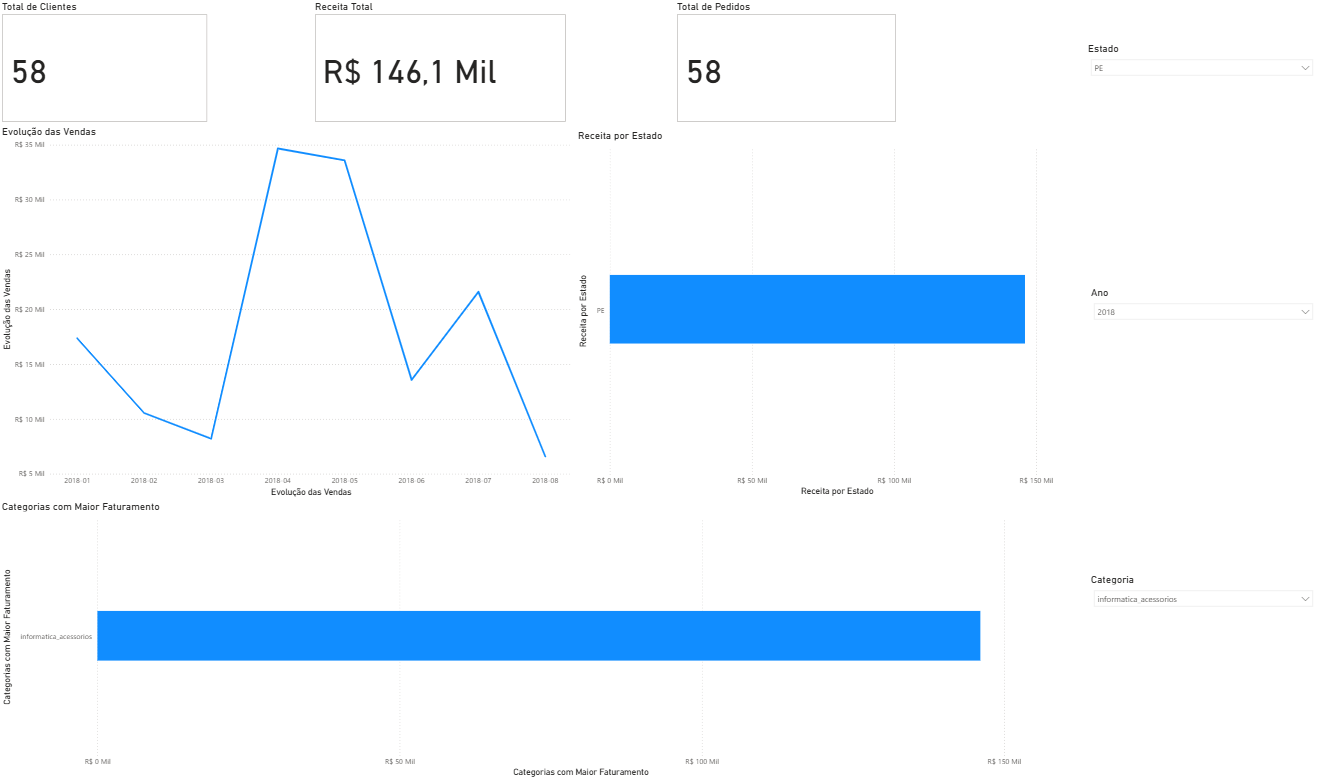

Layout of this report page (visuals, bound fields, positions):
{"tool":"powerbi","page":{"name":"Página 1","canvas":[2200,1300],"ordinal":0},"visuals":[{"type":"cardVisual","title":"Receita Total","fields":{"Data":["Sum(dados_tratados.price)"]},"box":[521.4,0,428.6,208.6],"z":0},{"type":"cardVisual","title":"Total de Pedidos","fields":{"Data":["Count(dados_tratados.order_id)"]},"box":[1124.3,0,375.7,208.6],"z":1000},{"type":"cardVisual","title":"Total de Clientes","fields":{"Data":["Count(dados_tratados.customer_id)"]},"box":[0,0,352.9,208.8],"z":2000},{"type":"lineChart","title":"Evolução das Vendas","fields":{"Y":["Sum(dados_tratados.price)"],"Category":["dados_tratados.AnoMes"]},"box":[0,208.6,960,624.3],"z":3000},{"type":"clusteredBarChart","title":"Receita por Estado","fields":{"Y":["Sum(dados_tratados.price)"],"Category":["dados_tratados.customer_state"]},"box":[960,215.7,850,617.1],"z":4000},{"type":"clusteredBarChart","title":"Categorias com Maior Faturamento","fields":{"Category":["dados_tratados.product_category_name"],"Y":["Sum(dados_tratados.price)"]},"box":[0,832.9,1810,467.1],"z":5000},{"type":"slicer","title":"Estado","fields":{"Values":["dados_tratados.customer_state"]},"box":[1810,70,390,335],"z":6000},{"type":"slicer","title":"Categoria","fields":{"Values":["dados_tratados.product_category_name"]},"box":[1814.3,954.3,385.7,345.7],"z":7000},{"type":"slicer","title":"Ano","fields":{"Values":["dados_tratados.ano"]},"box":[1815,476.7,385,346.7],"z":8000}]}

Visuals, with their boxes in screenshot pixels (x1, y1, x2, y2), scaled from the page's 2200x1300 canvas onto the 1317x778 screenshot:
"Receita Total" cardVisual: box(312, 0, 569, 125)
"Total de Pedidos" cardVisual: box(673, 0, 898, 125)
"Total de Clientes" cardVisual: box(0, 0, 211, 125)
"Evolução das Vendas" lineChart: box(0, 125, 575, 498)
"Receita por Estado" clusteredBarChart: box(575, 129, 1084, 498)
"Categorias com Maior Faturamento" clusteredBarChart: box(0, 498, 1084, 777)
"Estado" slicer: box(1084, 42, 1316, 242)
"Categoria" slicer: box(1086, 571, 1316, 777)
"Ano" slicer: box(1087, 285, 1316, 493)
